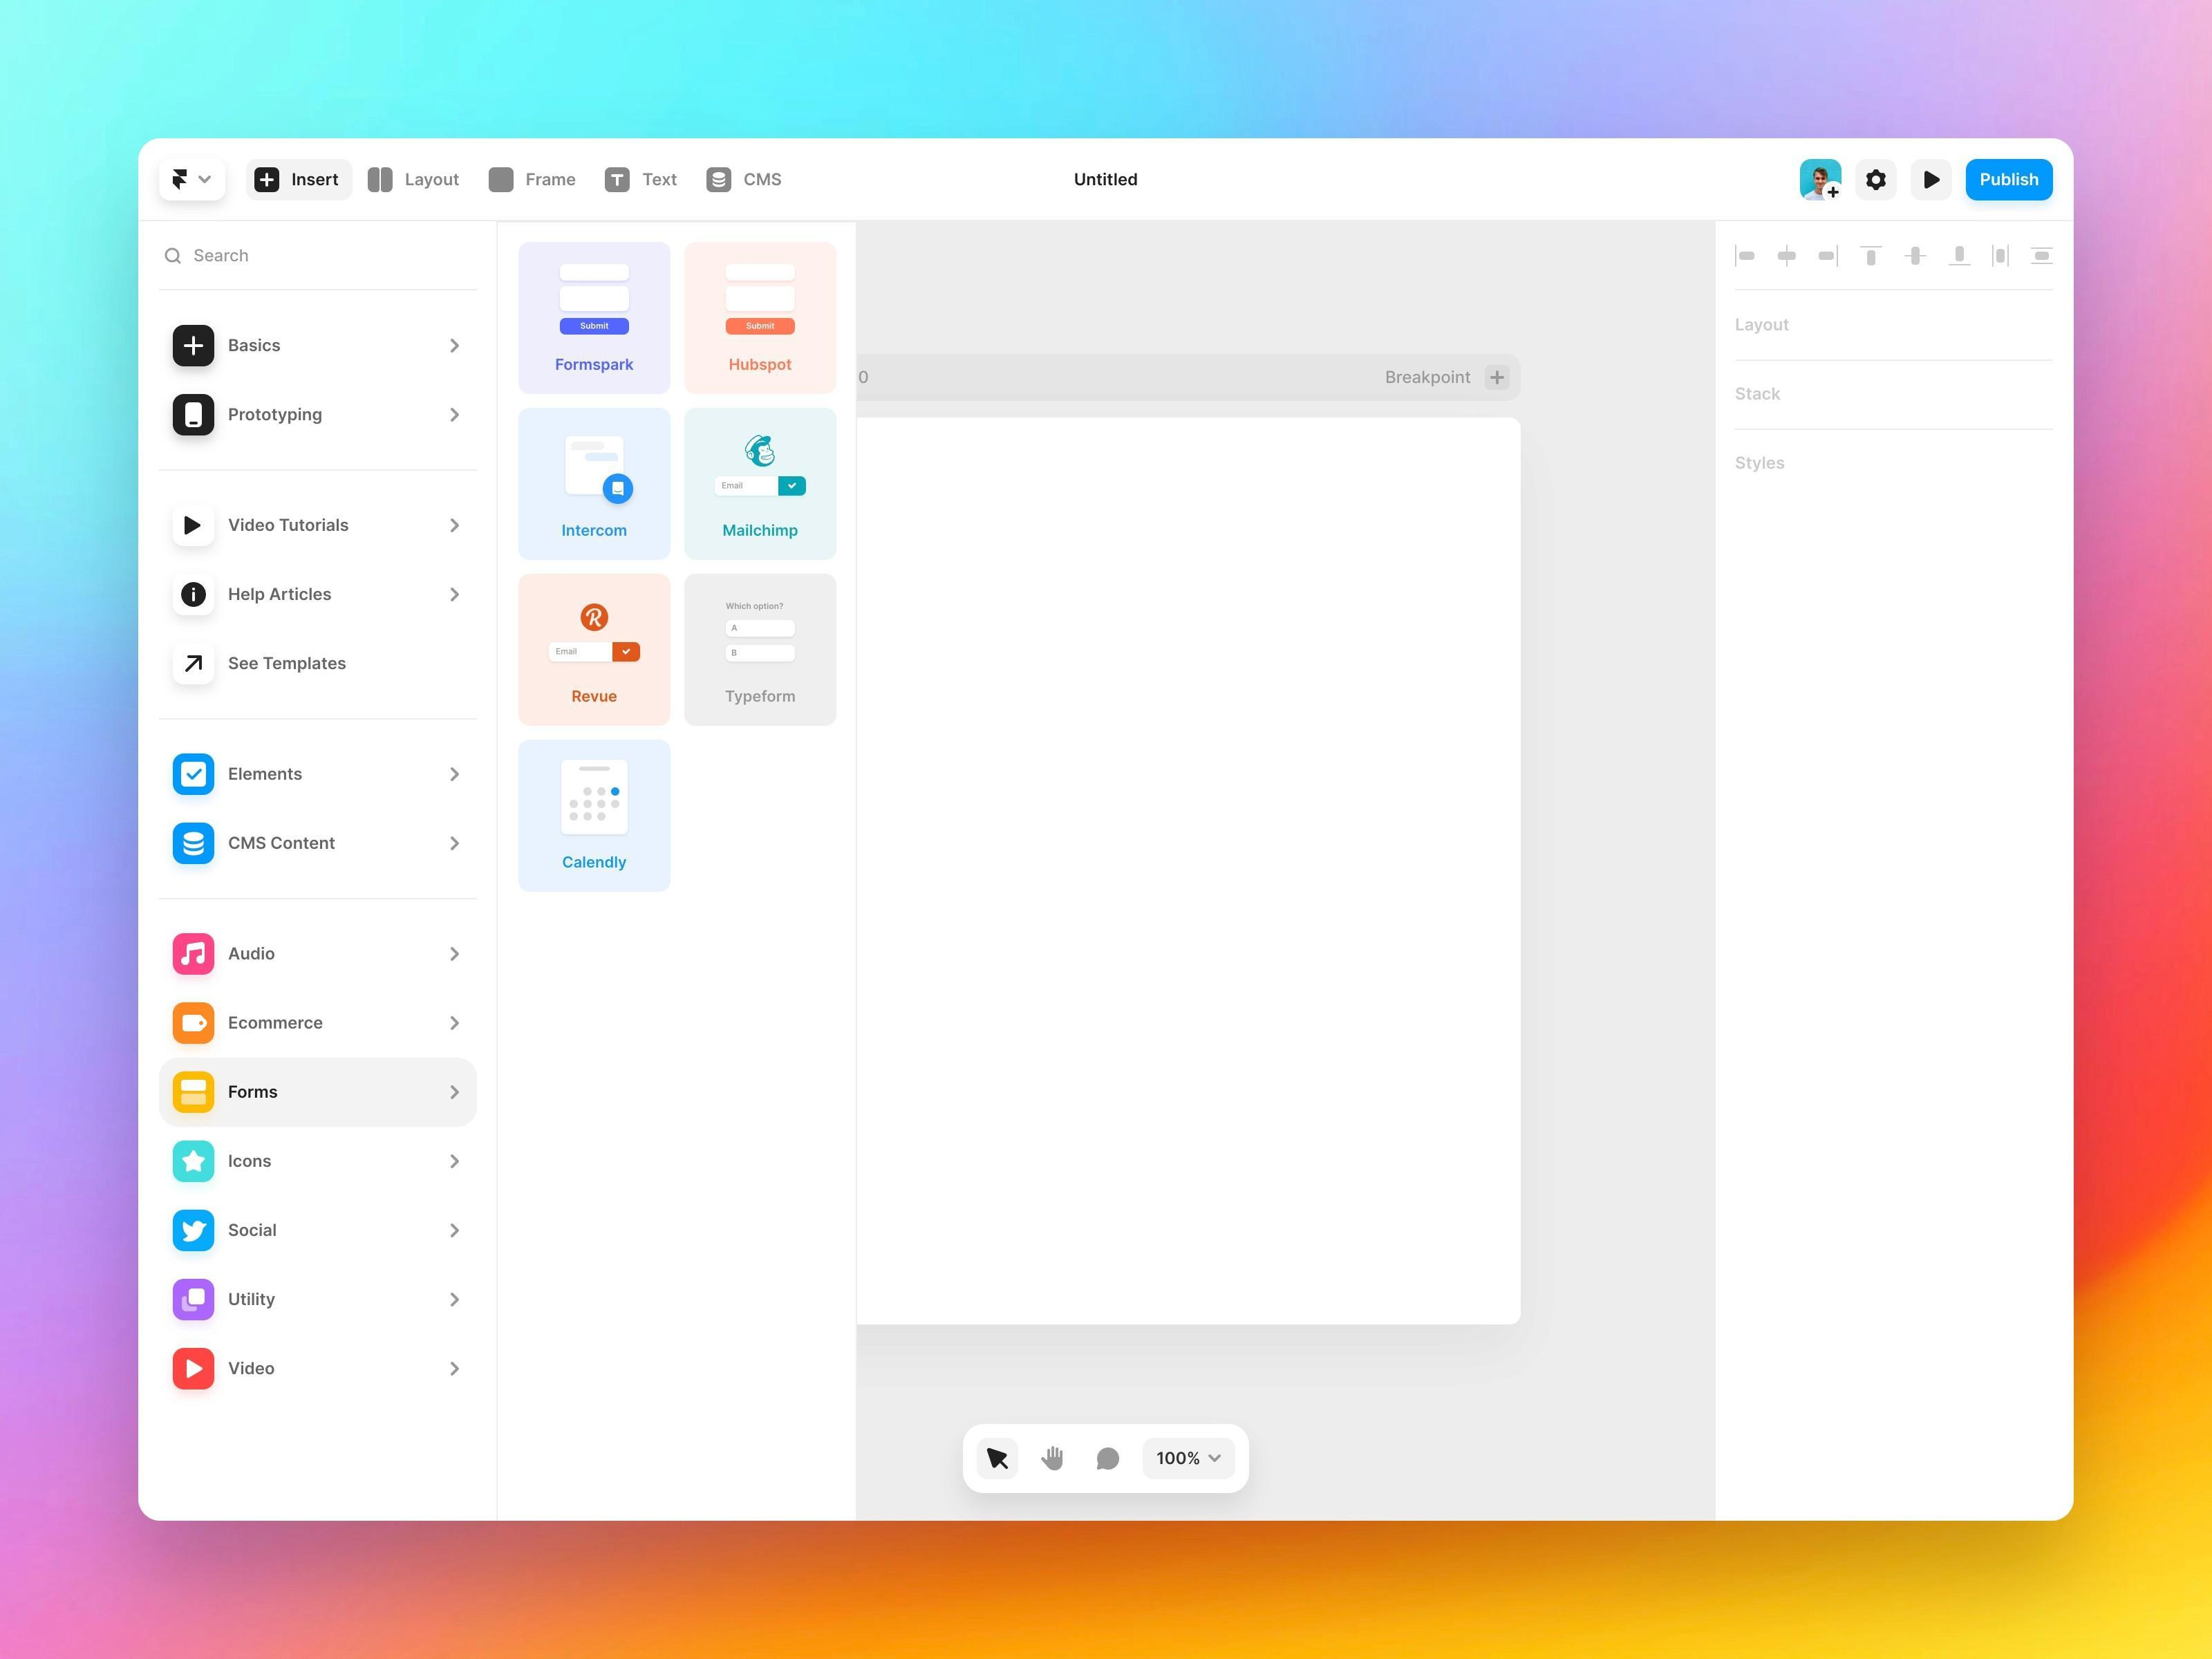button: (160, 1060, 477, 1127), (1966, 159, 2054, 202), (251, 162, 352, 199), (725, 643, 798, 664), (728, 319, 796, 338), (559, 317, 632, 335), (726, 620, 798, 638)
dropdown: (1146, 1438, 1235, 1483), (158, 164, 226, 199)
icon: (362, 164, 399, 199), (486, 162, 519, 199), (1090, 1443, 1123, 1476), (704, 164, 737, 195), (1035, 1445, 1069, 1474), (178, 582, 209, 612), (179, 760, 209, 791), (178, 939, 209, 969), (178, 1150, 211, 1178), (982, 1445, 1012, 1474), (178, 1284, 207, 1314), (181, 331, 209, 362), (178, 512, 209, 540), (178, 652, 209, 680), (181, 831, 209, 863), (604, 167, 634, 195), (181, 401, 207, 432), (1860, 169, 1892, 195), (2027, 242, 2055, 270), (178, 1358, 207, 1384), (183, 1220, 211, 1246), (1989, 244, 2015, 270), (1818, 242, 1843, 270), (160, 244, 185, 270), (1731, 244, 1756, 270), (1904, 244, 1930, 268), (1921, 167, 1944, 193), (1858, 242, 1881, 268), (1949, 242, 1972, 268), (181, 1014, 207, 1035), (1778, 246, 1797, 267), (610, 477, 629, 498), (1487, 371, 1508, 387), (782, 481, 803, 491)
input: (561, 288, 631, 312), (728, 288, 794, 312), (559, 263, 629, 284), (718, 476, 779, 497), (552, 643, 613, 662), (728, 268, 796, 281)
label: (1376, 364, 1475, 389), (1066, 167, 1157, 192), (723, 685, 805, 709), (554, 354, 641, 376), (723, 521, 803, 542), (1726, 312, 1799, 335), (1730, 448, 1794, 472), (725, 355, 805, 375), (402, 169, 467, 192), (563, 850, 629, 871), (1733, 383, 1792, 406), (563, 525, 632, 540), (721, 599, 791, 615), (529, 169, 575, 192), (740, 169, 784, 190), (641, 169, 681, 192), (570, 690, 620, 708)
